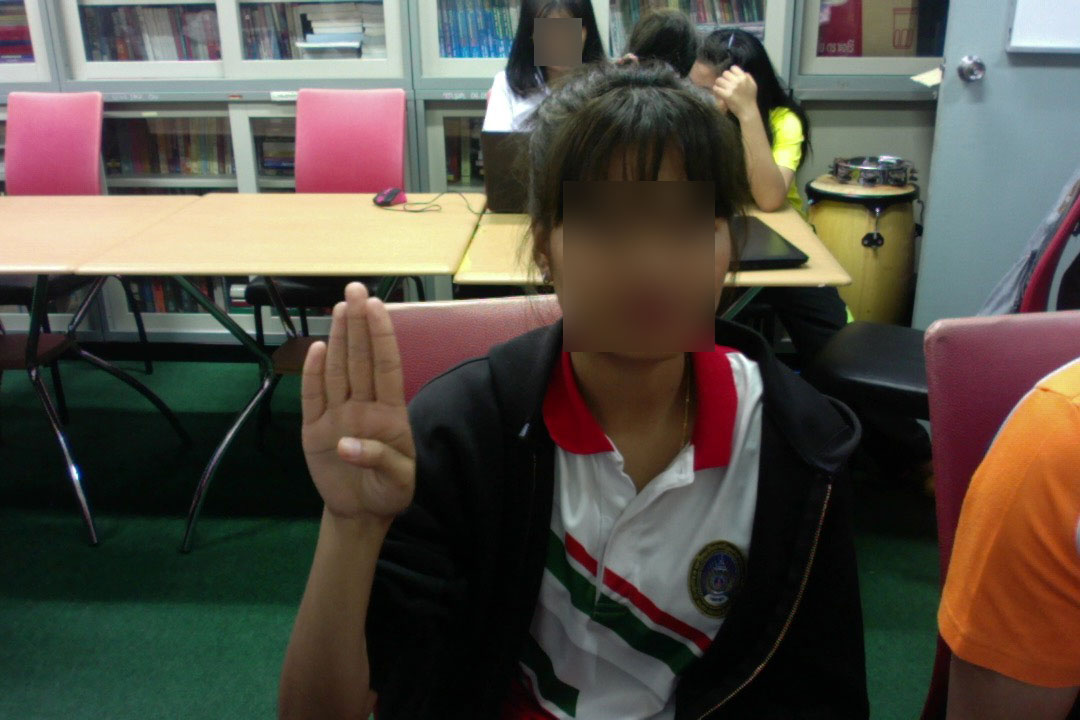bor: (292, 273, 423, 541)
